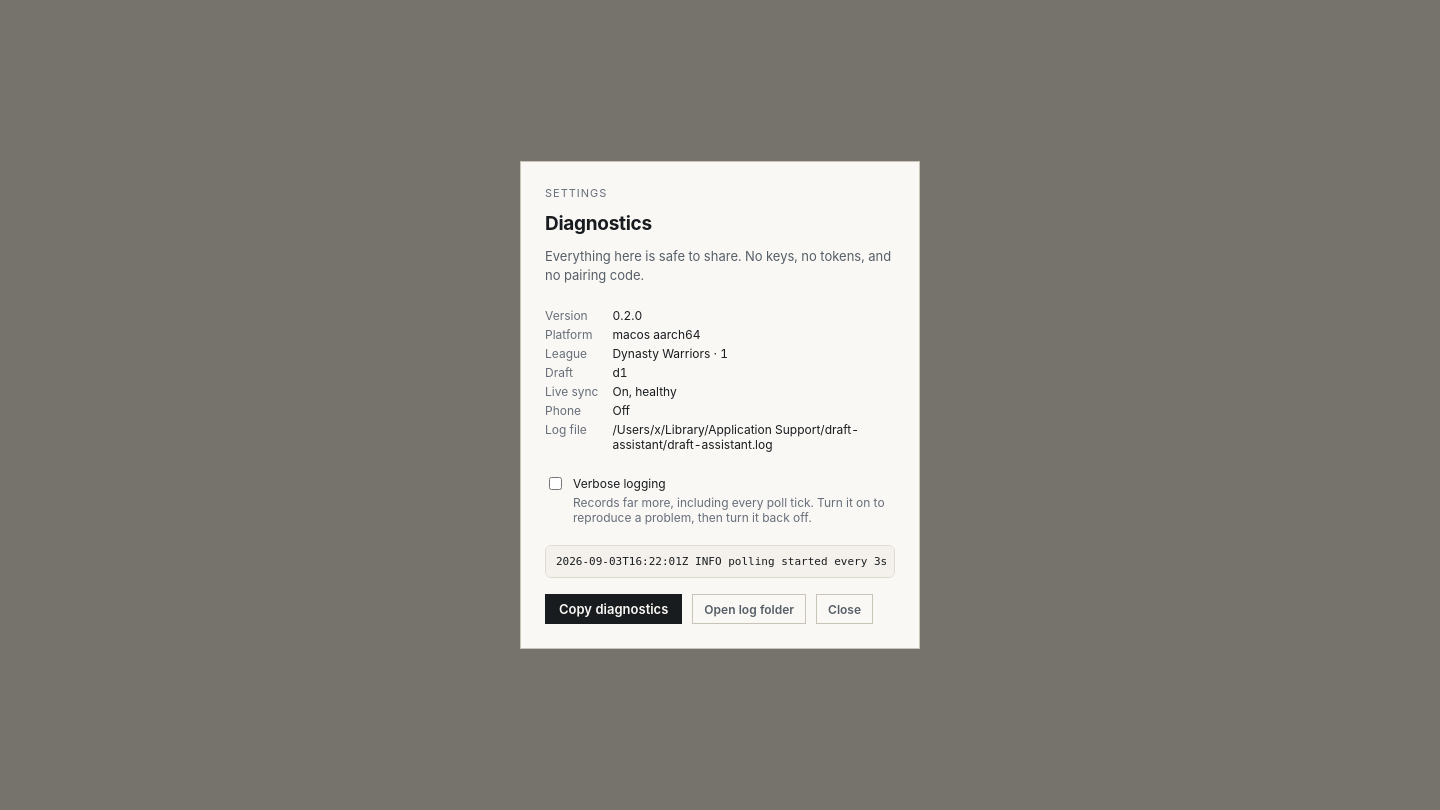
Scenario: the diagnostics dialog › forgets the last outcome when the next action starts
The width and height of the screenshot is (1440, 810).
Click the button "Copy diagnostics" at coordinates (614, 610), box [545, 594, 682, 624]
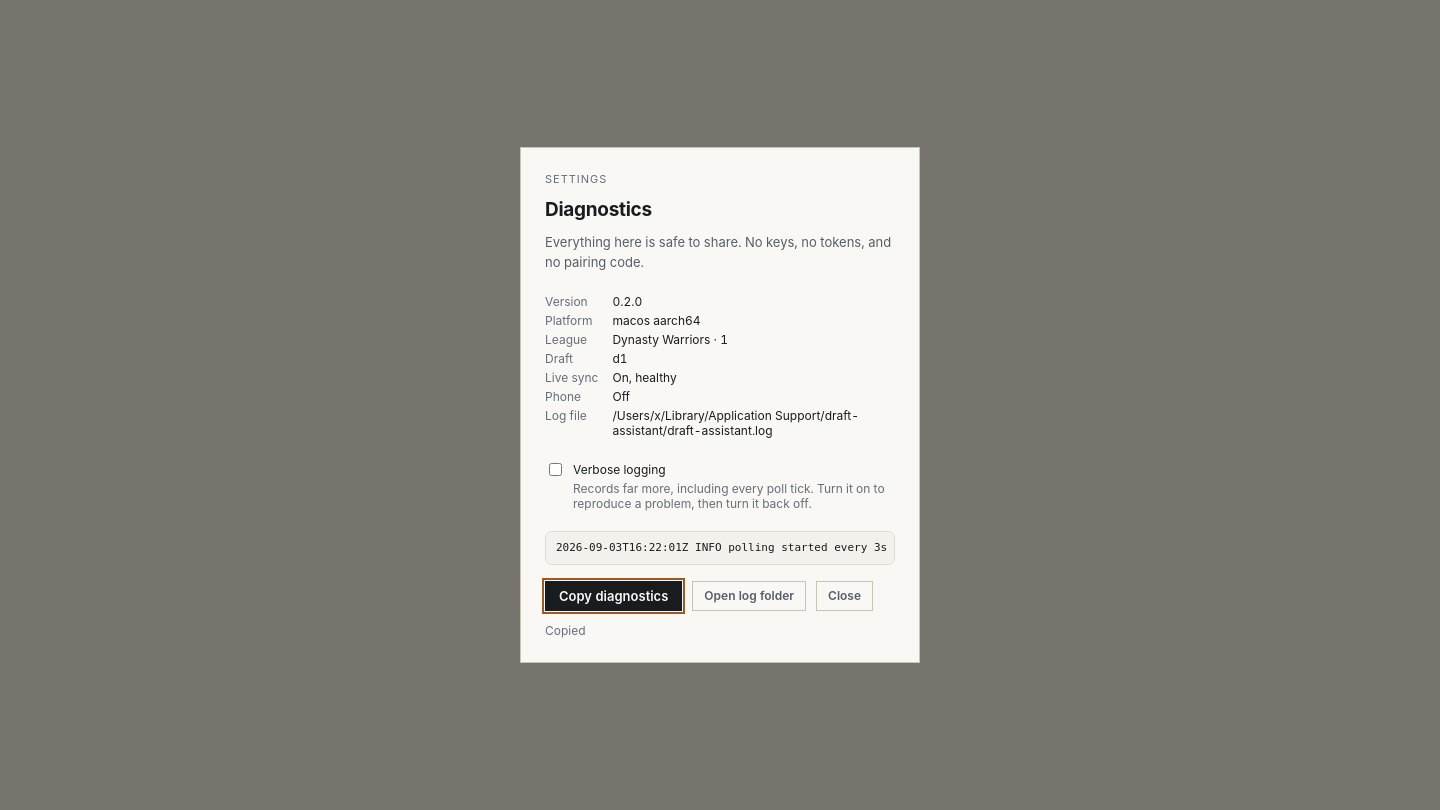
expect the text "Copied" is shown: met, box [545, 623, 586, 638]
Click the button "Open log folder" at coordinates (749, 596), box [692, 581, 806, 611]
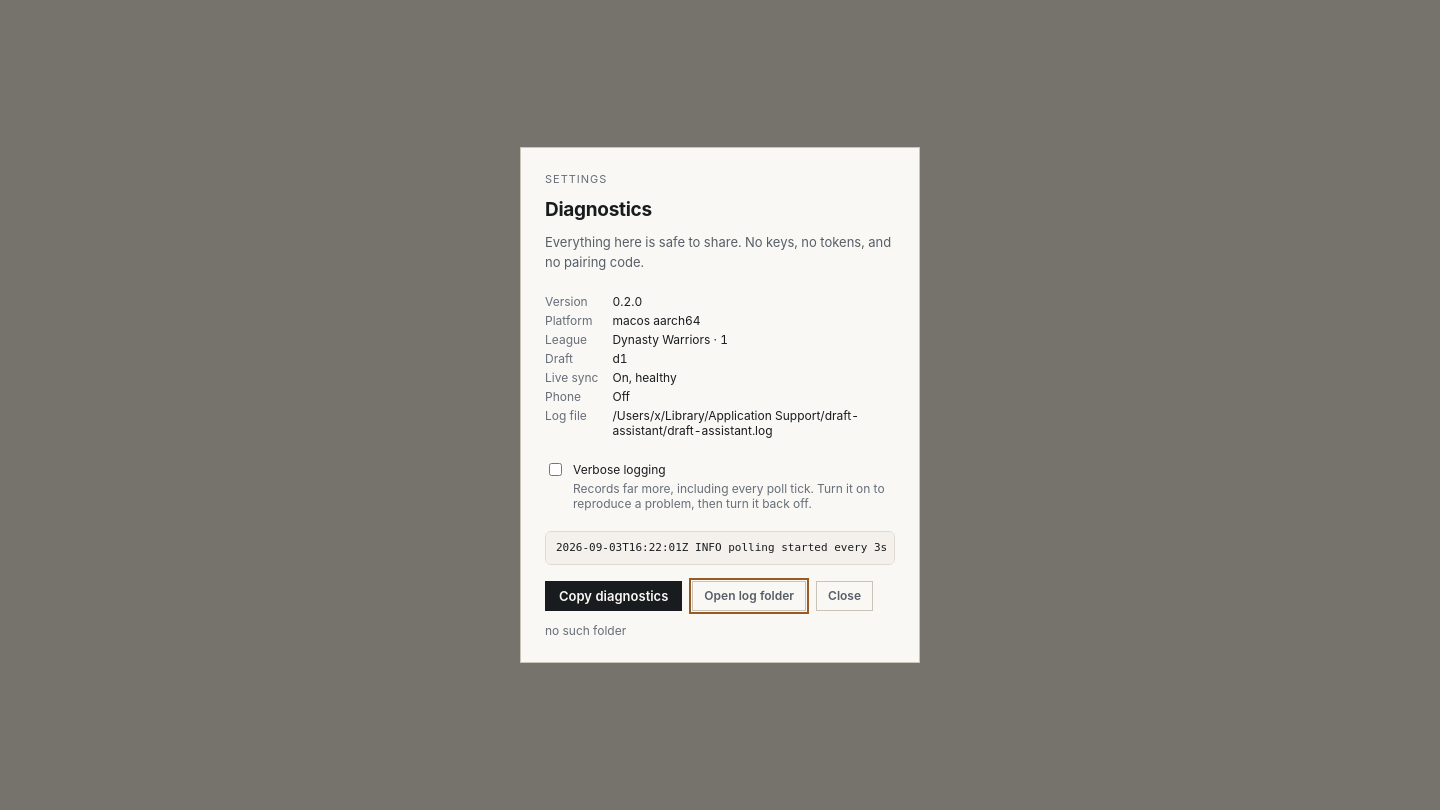
expect the text "no such folder" is shown: met, box [545, 623, 626, 638]
expect the text "Copied" is gone: met
